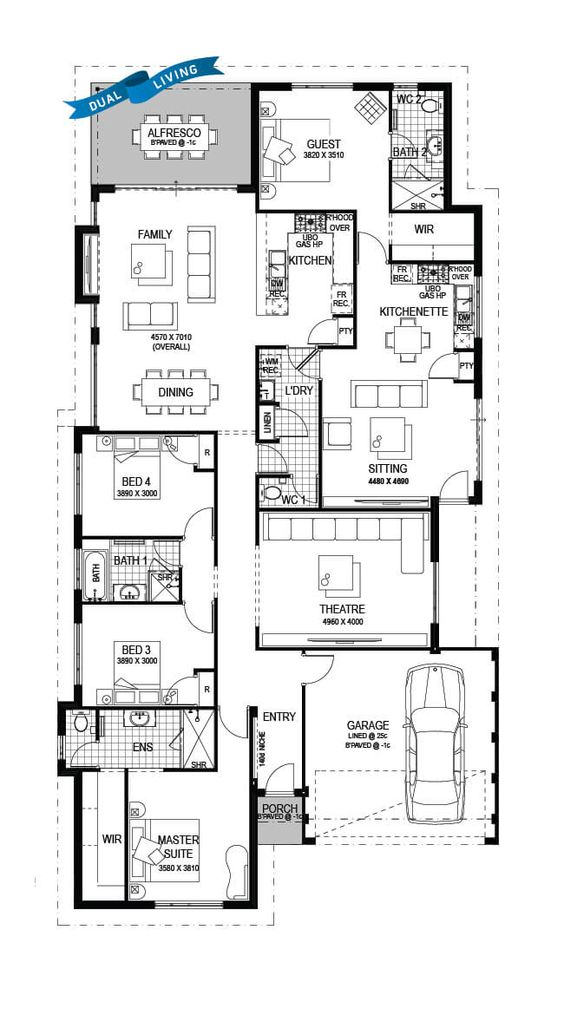room: (123, 768, 257, 908), (250, 82, 392, 213), (72, 429, 218, 539), (73, 600, 218, 709), (254, 344, 322, 511), (57, 705, 219, 771), (72, 535, 218, 604), (388, 81, 452, 212)
